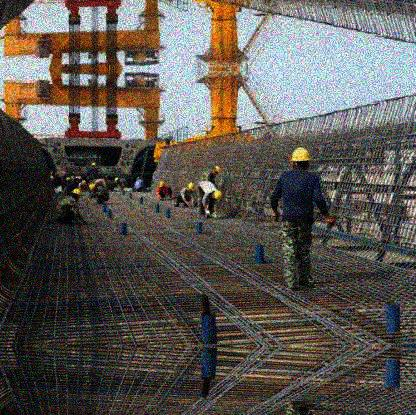helmet: (291, 146, 310, 170), (211, 191, 223, 203), (71, 187, 81, 199), (211, 166, 221, 176), (89, 184, 98, 194), (159, 181, 165, 190), (114, 176, 120, 185), (104, 175, 108, 180)
